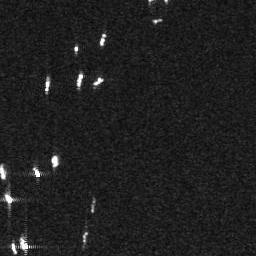ship: (19, 236, 30, 251), (91, 75, 105, 86), (50, 154, 60, 168), (76, 72, 84, 88), (98, 33, 107, 47), (32, 166, 42, 178), (4, 192, 13, 205), (10, 242, 19, 255), (1, 162, 7, 180), (45, 76, 51, 93)
